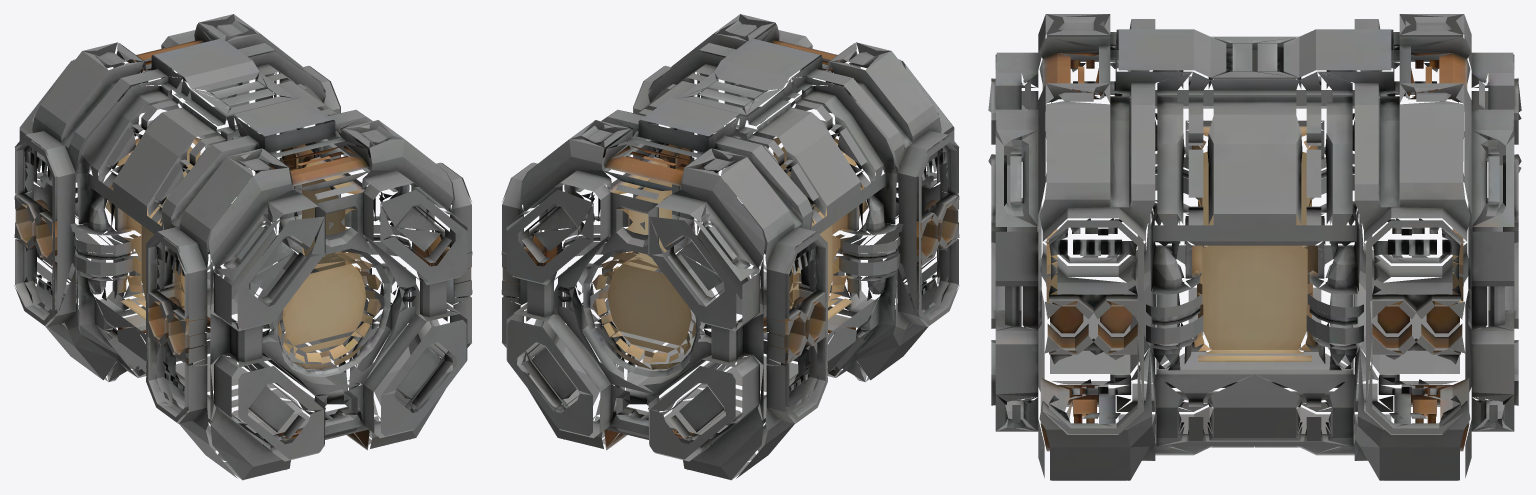
File: production_module_LOD2.glb
3 views of the same model, side by side, from view 1: azimuth 30°, elevation 25°; view 2: azimuth 150°, elevation 25°; view 3: azimuth 270°, elevation 25° (orthographic). The views are drawn at different scales.
Parts seen in each view (by area): view 1: production_module_LOD2; view 2: production_module_LOD2; view 3: production_module_LOD2.
Part boxes in pixels (left/top/right/bottom): production_module_LOD2: left=14, top=14, right=472, bottom=480; production_module_LOD2: left=501, top=14, right=959, bottom=480; production_module_LOD2: left=988, top=14, right=1521, bottom=480.
Size of the model in its own units: 0.7573 by 0.7965 by 1.
Materials: 1 (1 with a texture image).
